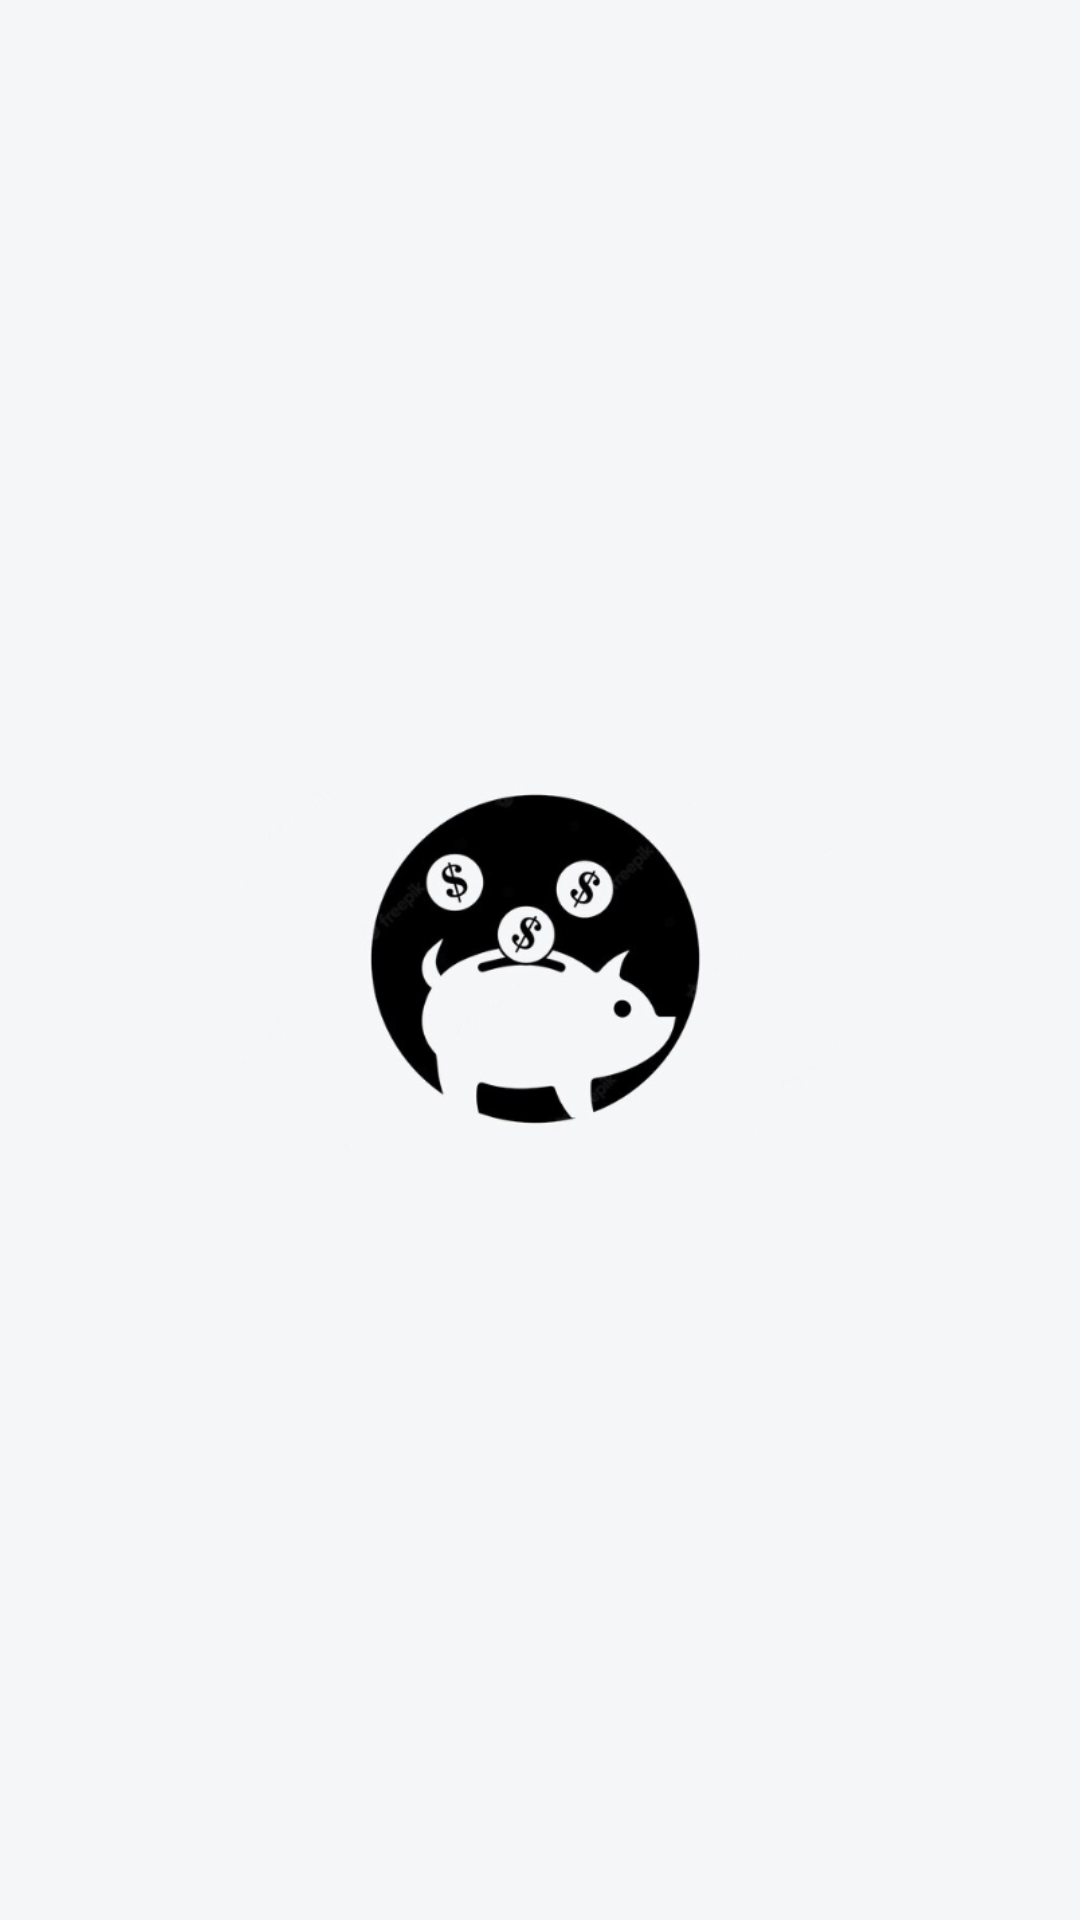

Icon click points for this 1080*1920 phone screenshot, format (x,y):
piggy bank: (535,959)
